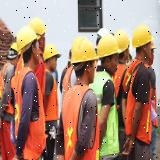Helmet: (70, 34, 97, 65), (133, 22, 156, 48), (97, 34, 121, 58), (16, 25, 38, 48), (114, 28, 130, 53), (30, 17, 48, 38), (43, 44, 63, 62)
Vest: (14, 67, 46, 160), (63, 83, 99, 160), (89, 68, 120, 156), (123, 58, 153, 147), (43, 68, 60, 124)
